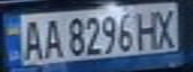2: (81, 12, 103, 55)
6: (115, 9, 139, 52)
8: (63, 15, 87, 57)
9: (100, 11, 121, 54)
A: (39, 15, 66, 60), (18, 16, 45, 61)
H: (133, 7, 163, 51)
X: (151, 6, 181, 48)
